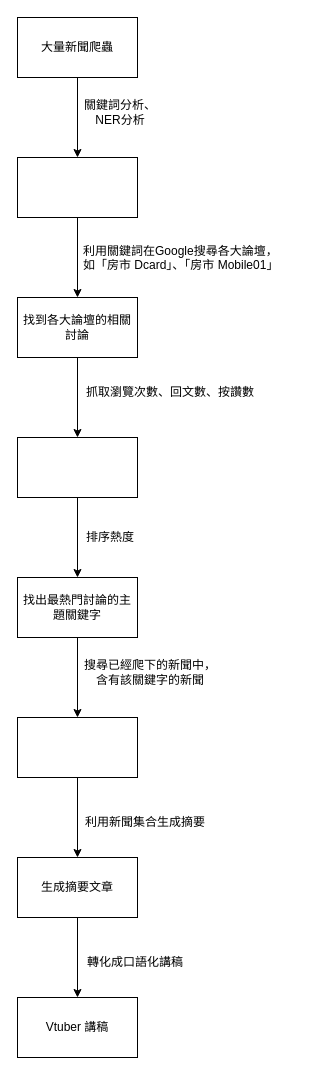
Some shapes in this 311 by 1075 pixel diagram are drawn without their labels. Here are the shapes that lost their labels. From the top down, the centre of each, then its label:
At pixel 77 187: "取得當週新聞關鍵字".
At pixel 77 467: "取得關鍵字在論壇的熱度".
At pixel 77 747: "找出熱門主題的新聞".
